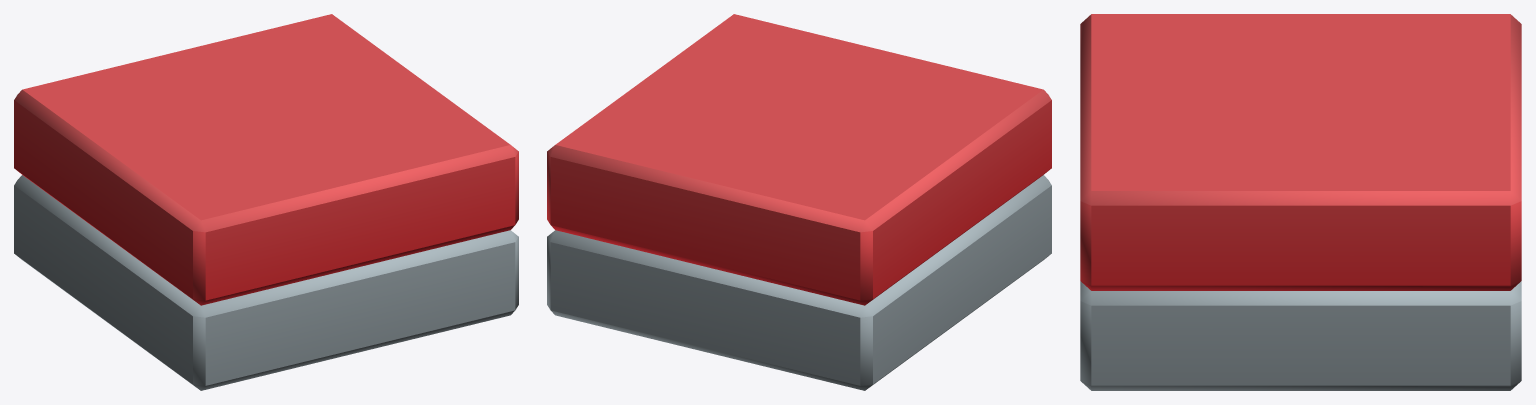
File: platform_2x2x1_red.glb
3 renders of one model, left to right at view 1: azimuth 30°, elevation 25°; view 2: azimuth 150°, elevation 25°; view 3: azimuth 270°, elevation 25°, orthographic. The views are drawn at different scales.
Parts seen in each view (by area): view 1: platform_2x2x1_red; view 2: platform_2x2x1_red; view 3: platform_2x2x1_red.
Part boxes in pixels (bbox=[...]): platform_2x2x1_red: bbox=[14, 14, 518, 390]; platform_2x2x1_red: bbox=[547, 14, 1051, 390]; platform_2x2x1_red: bbox=[1080, 14, 1521, 390].
Bounding box in the file's own units: 2 × 1 × 2.
1 material, 1 textured.
